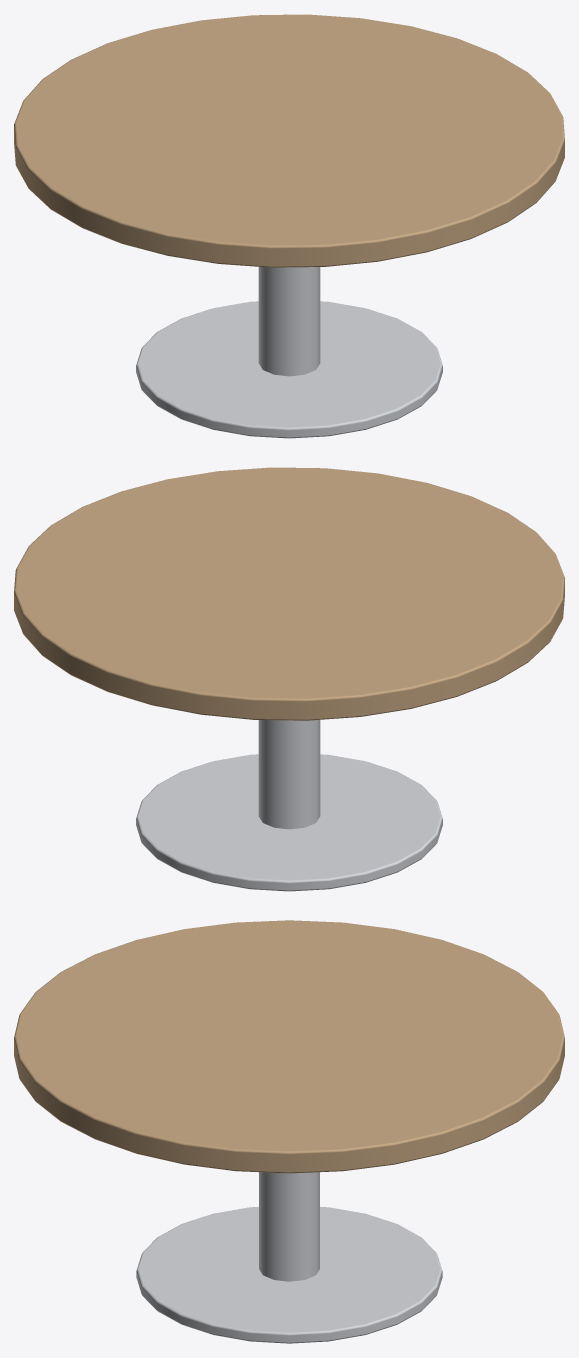
The model's file is SM_CoffeeTable.fbx.
3 views of the same model, one above another, from view 1: azimuth 30°, elevation 25°; view 2: azimuth 150°, elevation 25°; view 3: azimuth 270°, elevation 25° (orthographic).
Visible parts, largest first — view 1: SM_CoffeeTable; view 2: SM_CoffeeTable; view 3: SM_CoffeeTable.
Boxes of the visible parts, bbox=[...] form: SM_CoffeeTable: bbox=[14, 14, 564, 438]; SM_CoffeeTable: bbox=[14, 467, 564, 891]; SM_CoffeeTable: bbox=[14, 920, 564, 1343].
Bounding box in the file's own units: 0.9 × 0.44 × 0.9.
